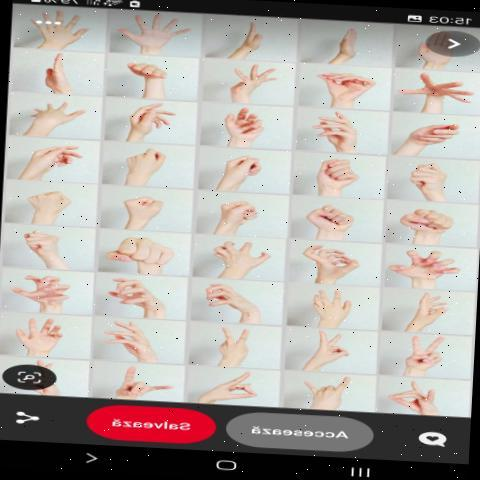Hands: (293, 282, 369, 336), (105, 9, 200, 52), (0, 317, 81, 358), (87, 319, 167, 359), (391, 75, 475, 111), (385, 294, 458, 332), (115, 56, 177, 99), (208, 102, 267, 144), (308, 112, 366, 153), (22, 14, 86, 47), (396, 119, 459, 149)
